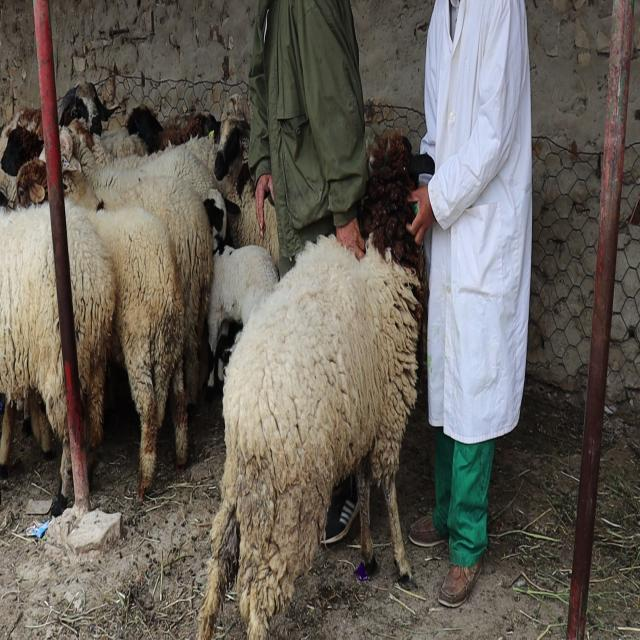Score_3: (198, 130, 434, 639)
